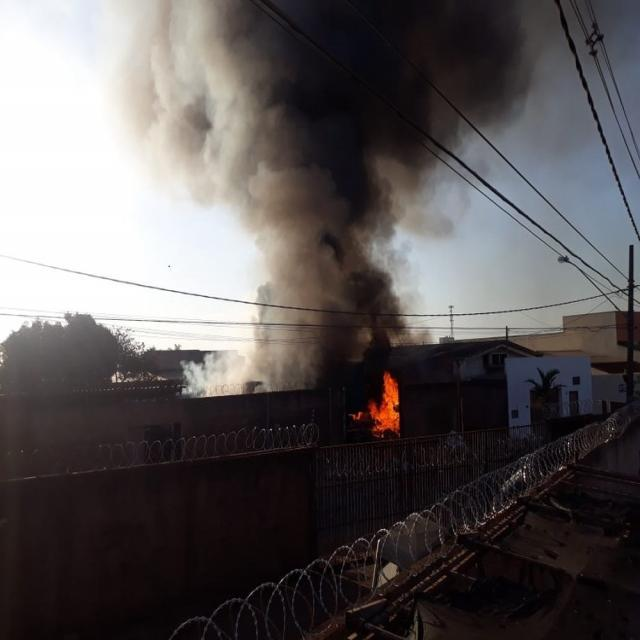Fire: (376, 374, 398, 436)
